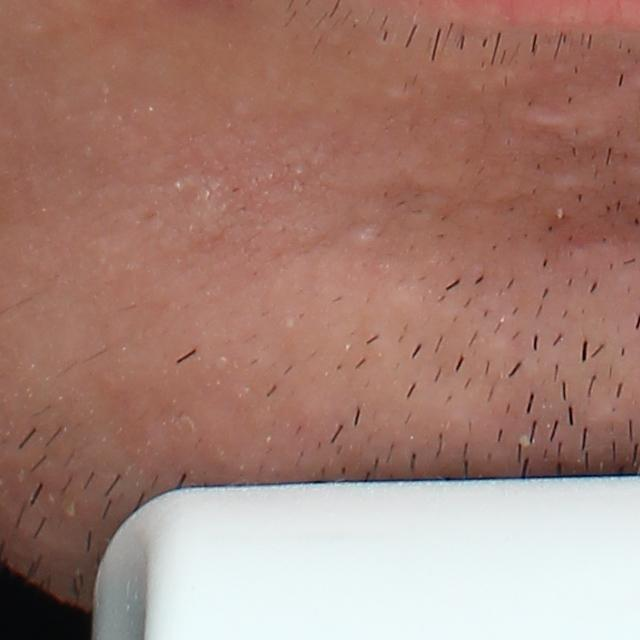hypertrophic_scar: (510, 103, 620, 150), (175, 175, 230, 243), (547, 171, 596, 196)
